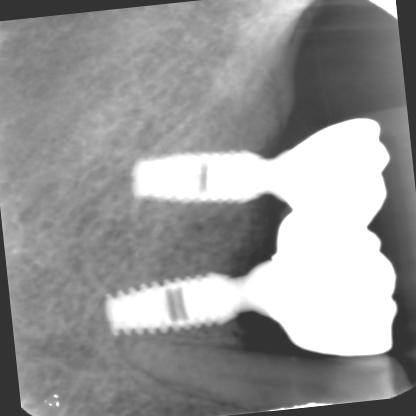Bicon: (124, 141, 282, 213), (98, 268, 248, 339)
